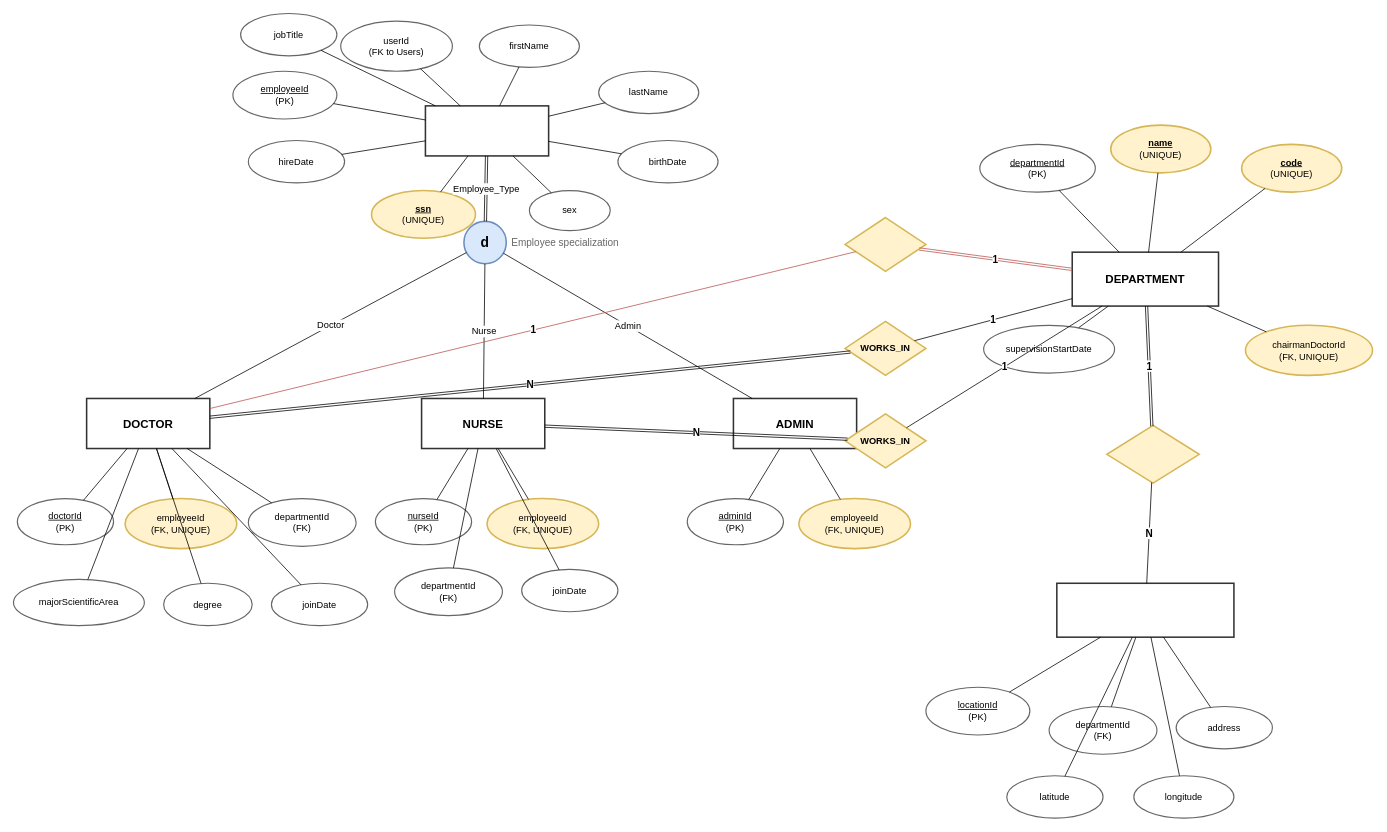
Image size: 1387x832. Some labels were removed from this diagram. Here are the shapes that lost their labels. From the top down, the box of each, then its label:
(424, 105, 549, 156): EMPLOYEE
(844, 216, 926, 272): CHAIRS
(1106, 424, 1200, 484): HAS_LOCATION
(1056, 582, 1234, 638): DEPARTMENT_LOCATION
